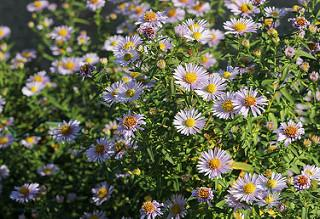daisy: (197, 147, 237, 180), (226, 174, 268, 205), (233, 87, 270, 120), (174, 62, 211, 92), (174, 107, 208, 138), (195, 73, 228, 103), (51, 119, 85, 147), (211, 91, 239, 122), (116, 112, 150, 137), (135, 8, 168, 33), (224, 15, 259, 38), (87, 137, 116, 164), (274, 121, 305, 146), (10, 183, 42, 206), (121, 80, 147, 107), (261, 173, 288, 196), (101, 78, 122, 107), (140, 198, 167, 219), (190, 186, 217, 206), (116, 49, 142, 69), (186, 28, 213, 47), (292, 15, 312, 33)
